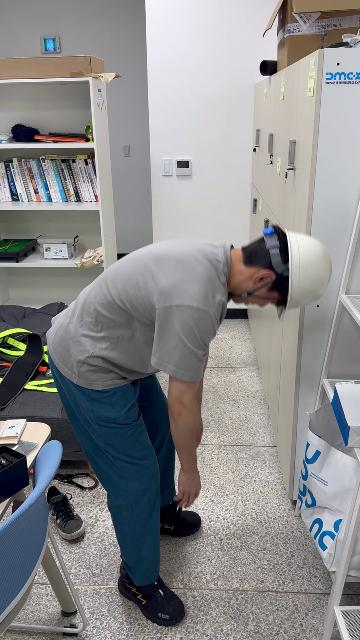helmet_worn: (245, 225, 333, 316)
shoe_not_worn: (45, 485, 85, 540)
shoe_worn: (117, 561, 184, 627), (159, 501, 201, 537)
vest_not_worn: (48, 242, 234, 399)
